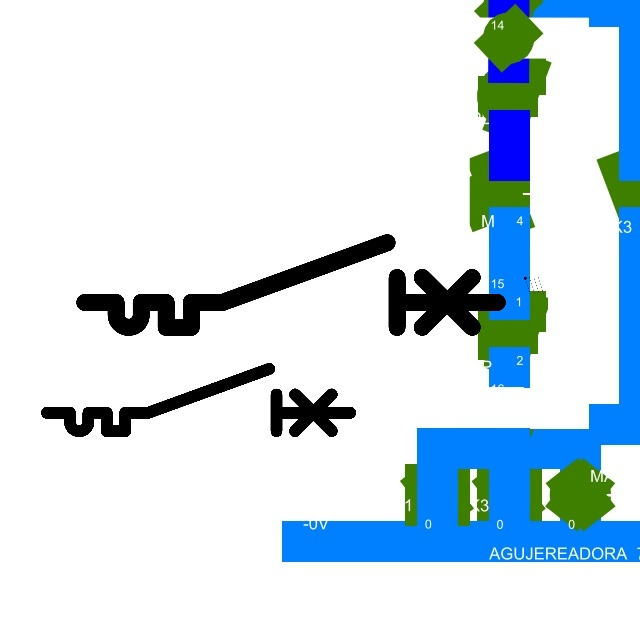interruptor_termomagnetico: (74, 232, 508, 338), (39, 361, 357, 439)
